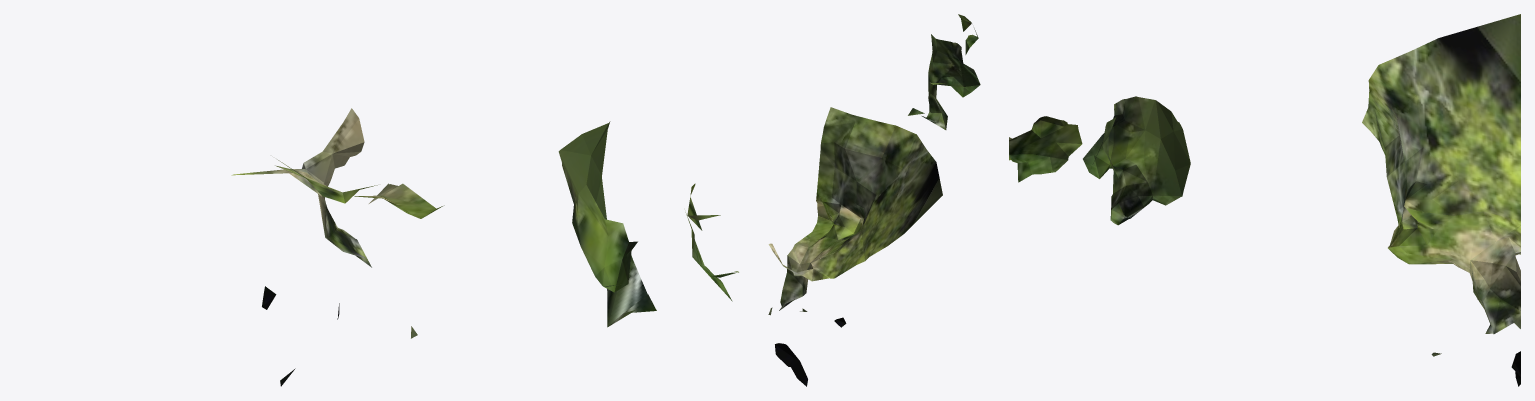
3 renders of one model, left to right at view 1: azimuth 30°, elevation 25°; view 2: azimuth 150°, elevation 25°; view 3: azimuth 270°, elevation 25°, orthographic. The views are drawn at different scales.
Bounding box in the file's own units: 13.11 × 16.2 × 26.11.
Materials: 1 (1 with a texture image).
